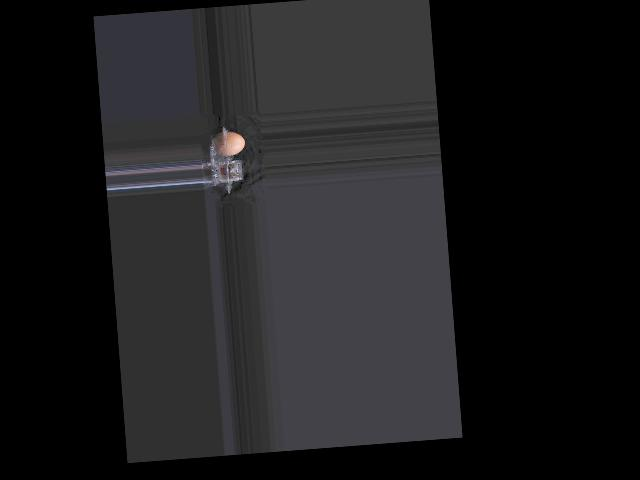egg: (212, 130, 245, 156)
